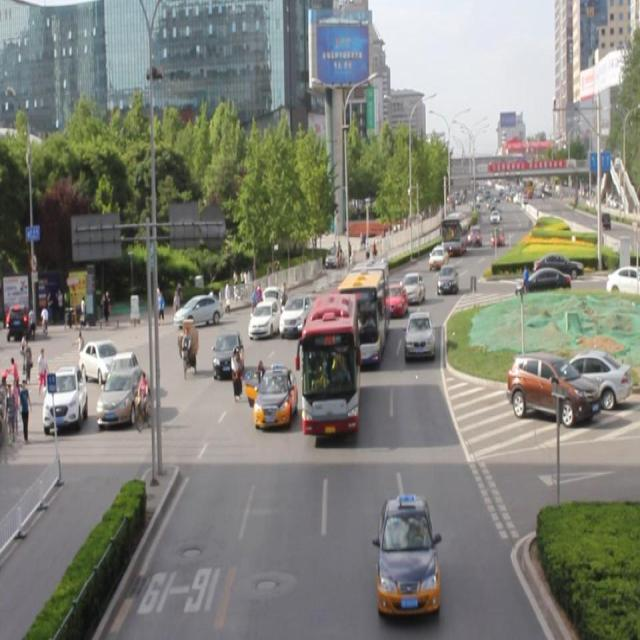car: (377, 495, 438, 614), (252, 364, 296, 428), (327, 285, 368, 324), (404, 307, 435, 358), (280, 292, 314, 336), (213, 328, 243, 377), (249, 296, 282, 339), (383, 280, 407, 318), (398, 271, 423, 303), (435, 262, 458, 295)
van: (302, 292, 358, 432), (339, 260, 387, 361)
